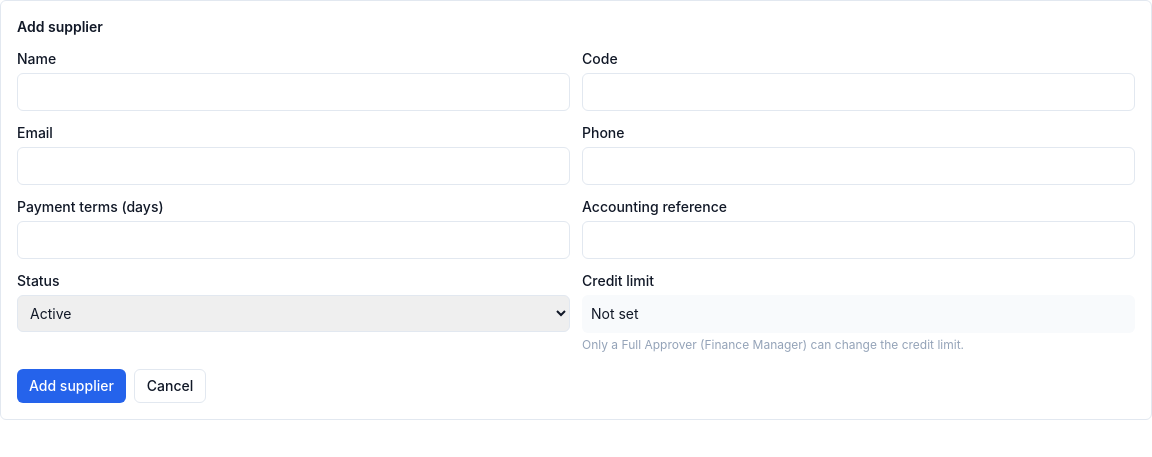
Test: SupplierForm — general fields and validation › rejects a negative payment terms value
Type "Valid Name" into the field labelled "Name" at (294, 92), box [17,73,570,111]
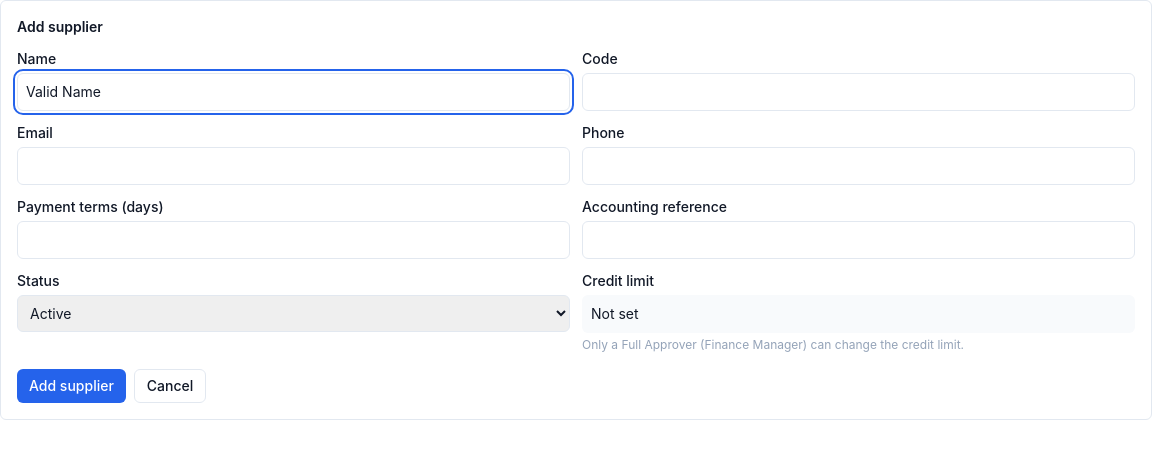
Type "-5" into the number field labelled "Payment terms (days)" at (294, 240), box [17,221,570,259]
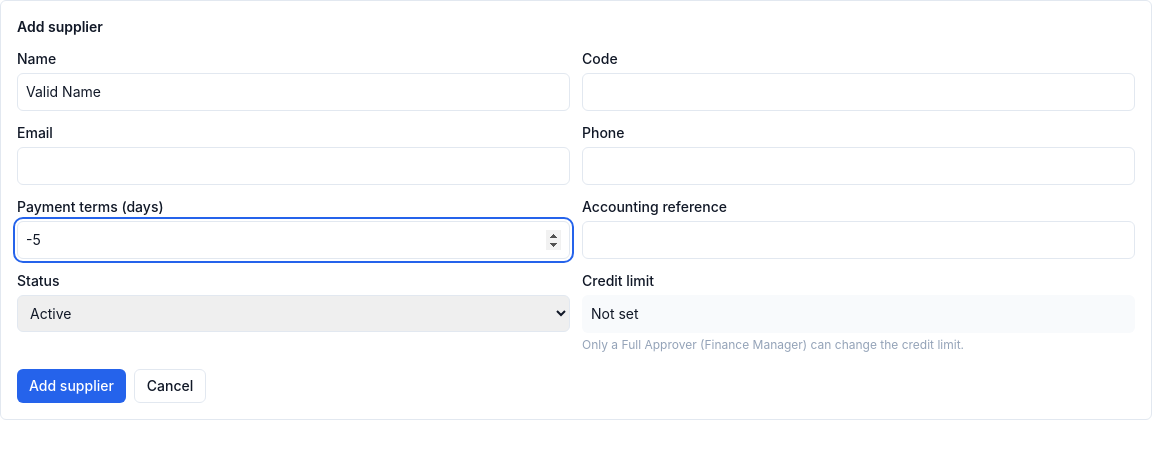
Click the button "Add supplier" at (71, 386), box [17,369,126,403]
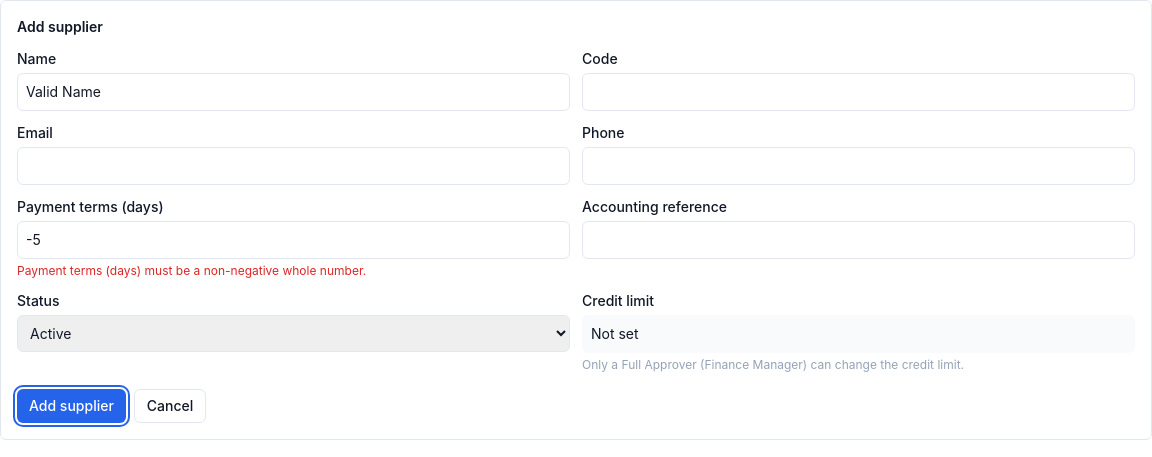
Check: the text "Payment terms (days) must be a non-negative whole number." is shown, box [17,263,366,278]
